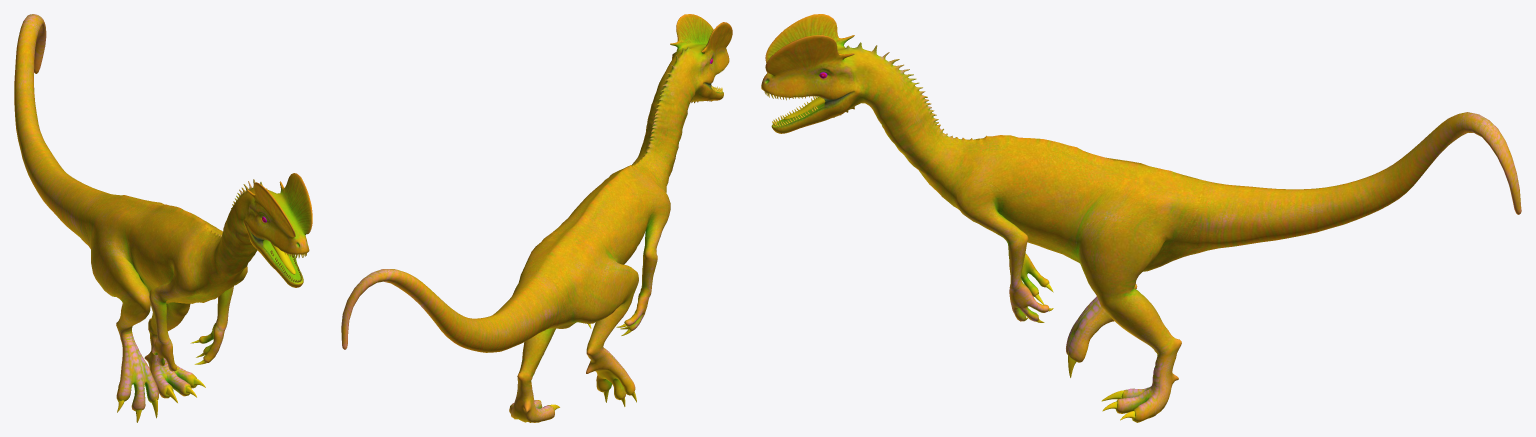
The model's file is Dilophosaurus.glb.
3 renders of one model, left to right at view 1: azimuth 30°, elevation 25°; view 2: azimuth 150°, elevation 25°; view 3: azimuth 270°, elevation 25°, orthographic. The views are drawn at different scales.
Parts seen in each view (by area): view 1: dilophosaurus.1; view 2: dilophosaurus.1; view 3: dilophosaurus.1.
Part boxes in pixels (x1,y1,x2,y2): dilophosaurus.1: (14,14,312,422); dilophosaurus.1: (341,14,732,422); dilophosaurus.1: (761,14,1521,422).
Size of the model in its own units: 0.1996 by 0.522 by 0.978.
1 material, 1 textured.
